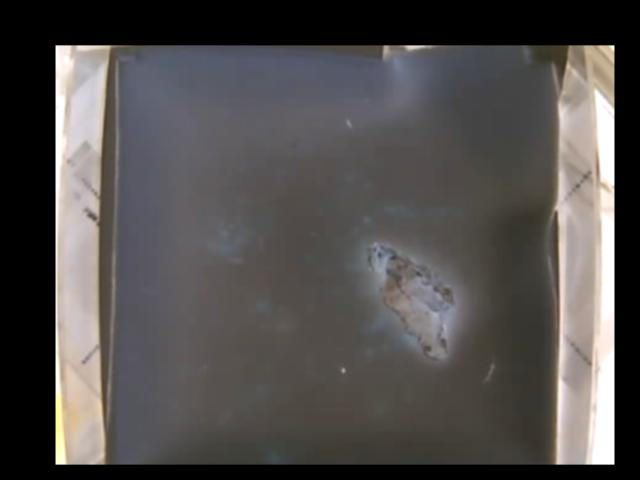Brisk: (369, 239, 454, 358)
